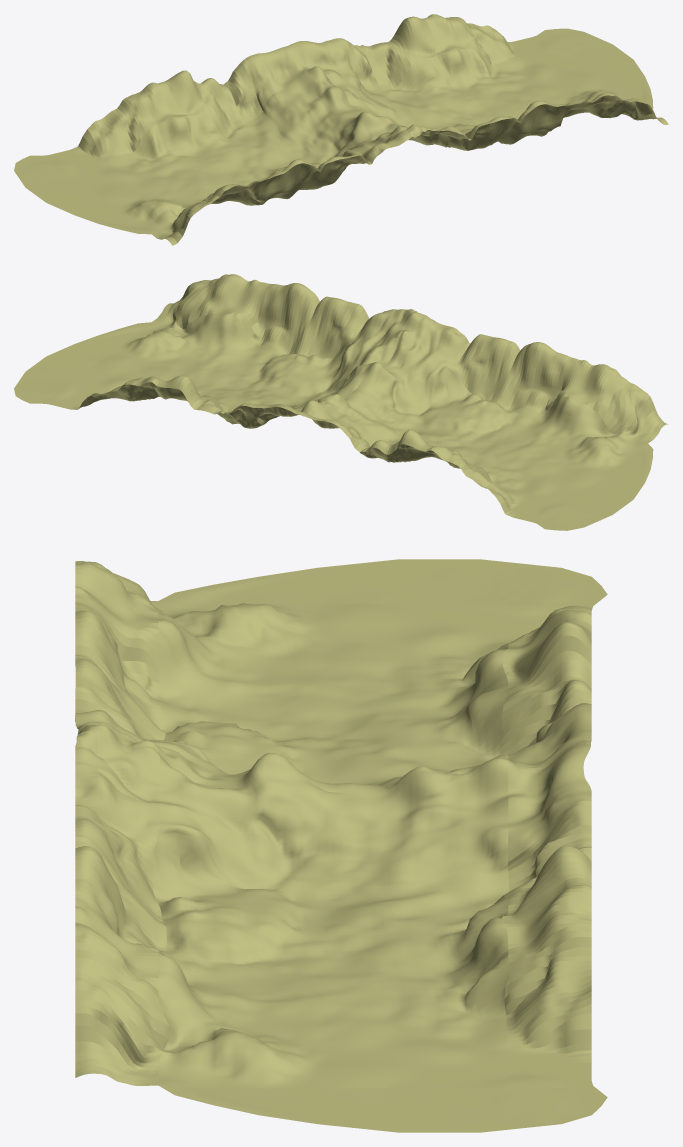
Rendered from enviromentFULL_v01.fbx.
The picture shows the model from 3 angles, top to bottom: view 1: azimuth 30°, elevation 25°; view 2: azimuth 150°, elevation 25°; view 3: azimuth 270°, elevation 25°; orthographic projection. The views are drawn at different scales.
Parts seen in each view (by area): view 1: enviroment; view 2: enviroment; view 3: enviroment.
Boxes of the visible parts, x1,y1,x2,y2 form: enviroment: [14, 14, 668, 245]; enviroment: [14, 274, 667, 530]; enviroment: [75, 559, 607, 1132].
Bounding box in the file's own units: 12952 × 1317 × 5086.
